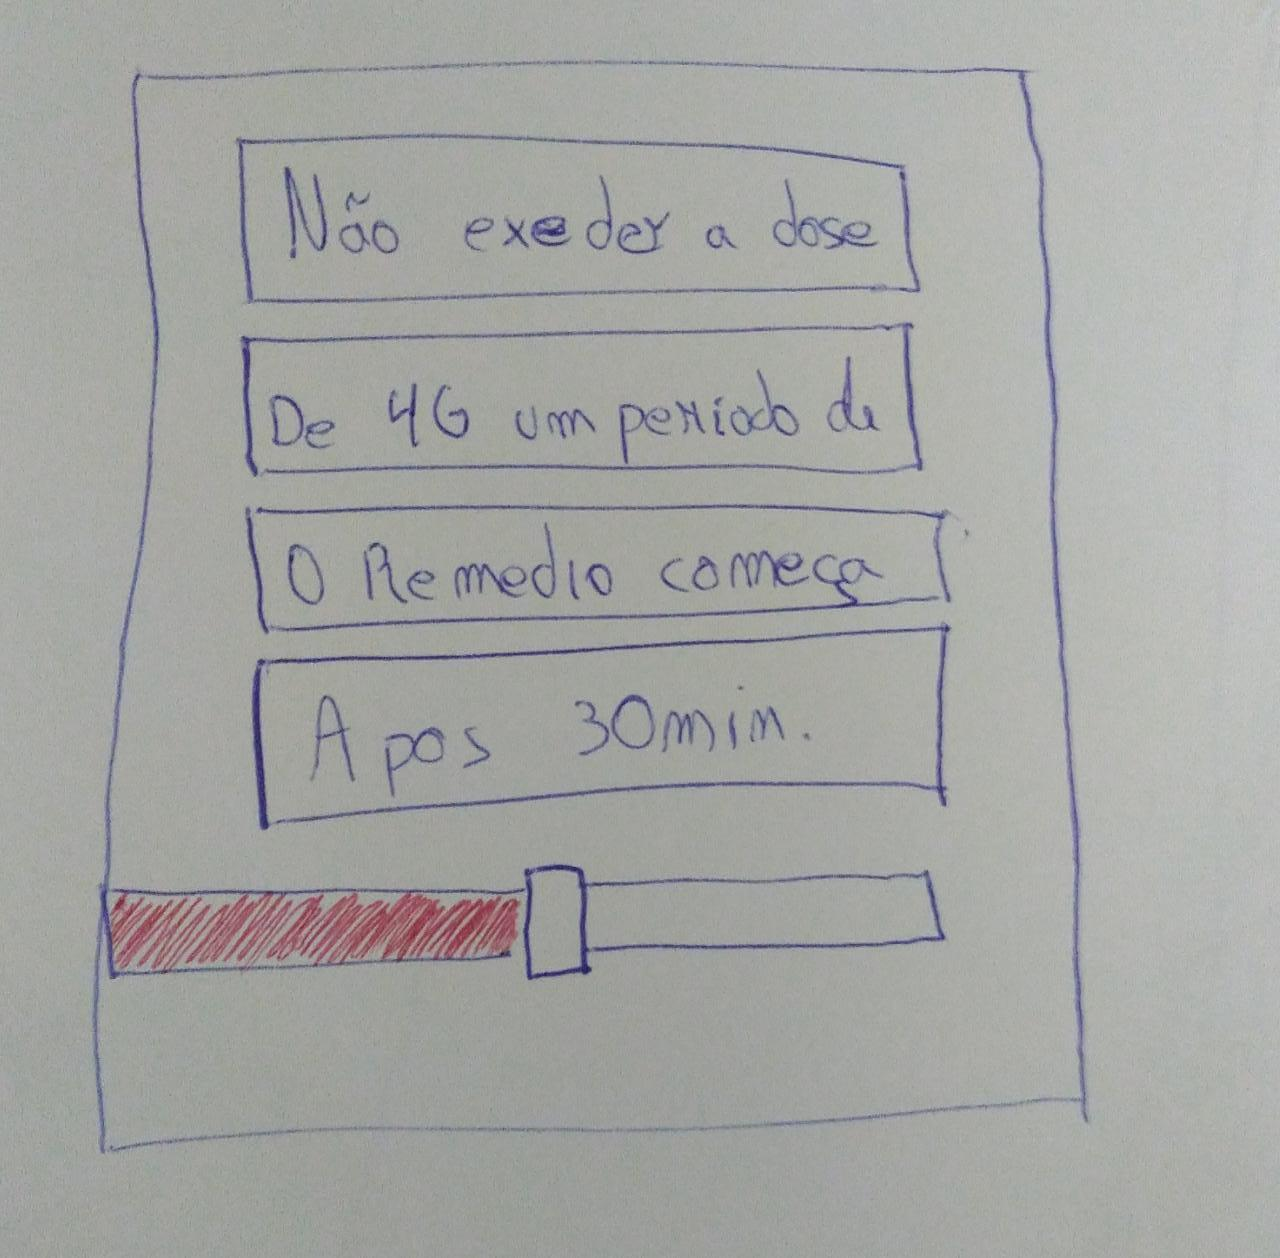Button: (251, 625, 951, 829), (236, 133, 921, 303), (243, 323, 925, 476), (245, 503, 952, 635)
Screen: (91, 60, 1087, 1152)
Slider: (98, 863, 946, 982)
